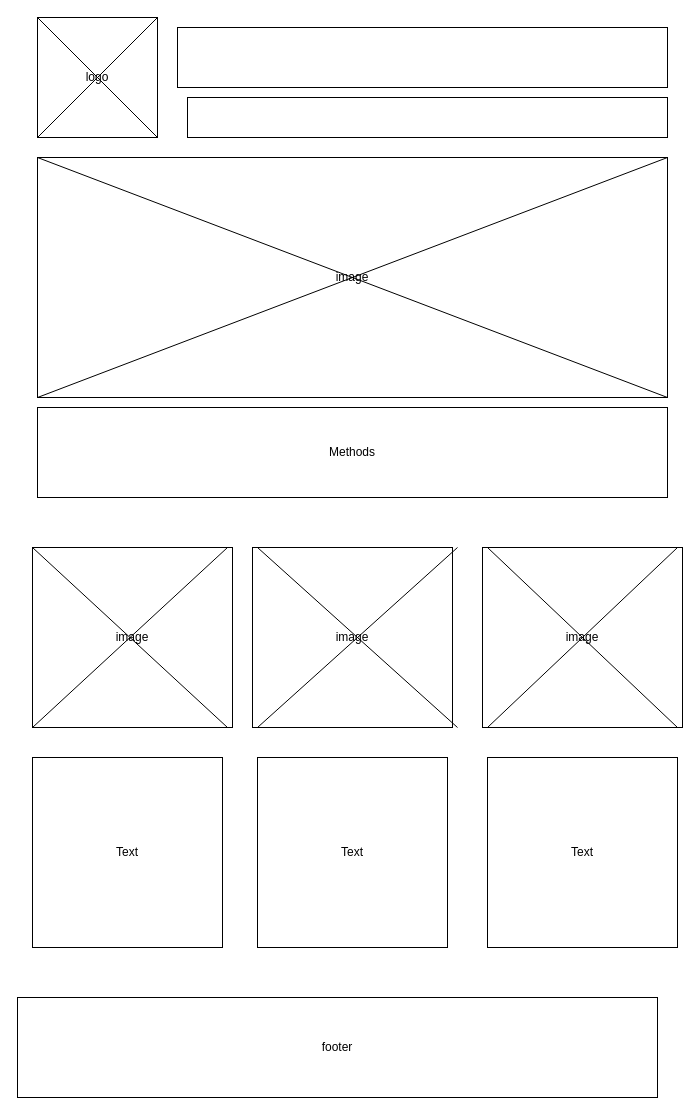
Image size: 700x1115. Some labels were removed from this diagram. The centre of each missing label's shape, as x and y in pixels:
header: the point at 422,57
nav: the point at 427,117
